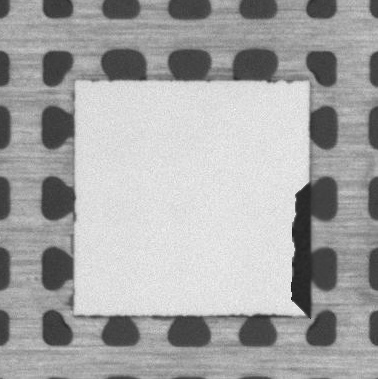DIE_BROKEN: (289, 181, 313, 314)
